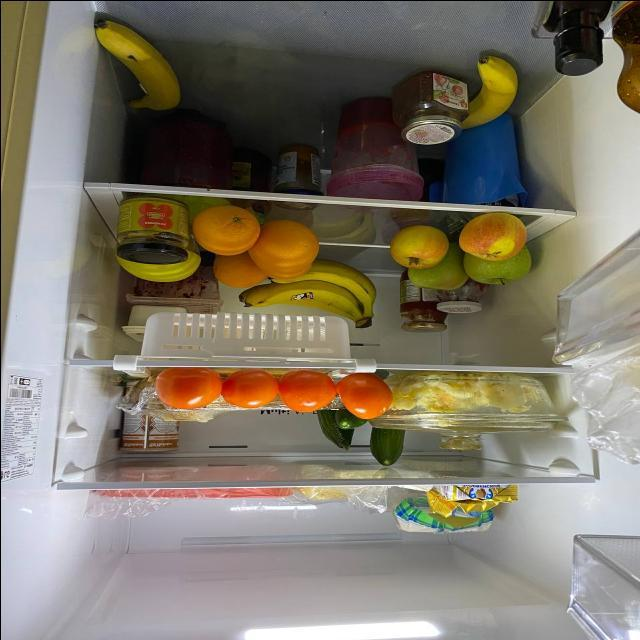Apple: (458, 210, 524, 259), (392, 227, 446, 269), (456, 255, 536, 283), (410, 263, 464, 286)
Banana: (84, 17, 184, 115), (234, 263, 372, 324), (452, 53, 522, 135)
Cucumber: (359, 429, 414, 467), (310, 408, 354, 451), (334, 410, 364, 430)
Orange: (242, 219, 320, 271), (194, 206, 260, 253), (209, 253, 263, 285), (252, 261, 312, 276)
Tomato: (152, 367, 222, 409), (325, 378, 391, 420), (213, 372, 279, 409), (279, 371, 337, 409)
